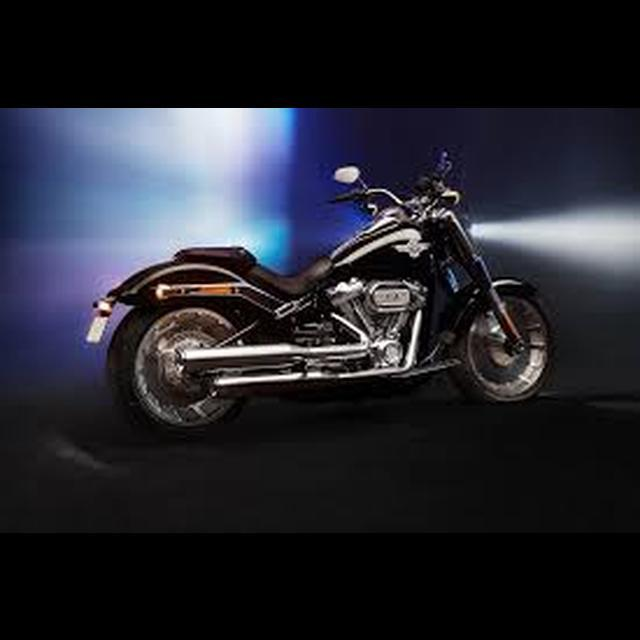motorcycle: (81, 137, 567, 448)
